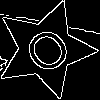O: (20, 24, 81, 85)
